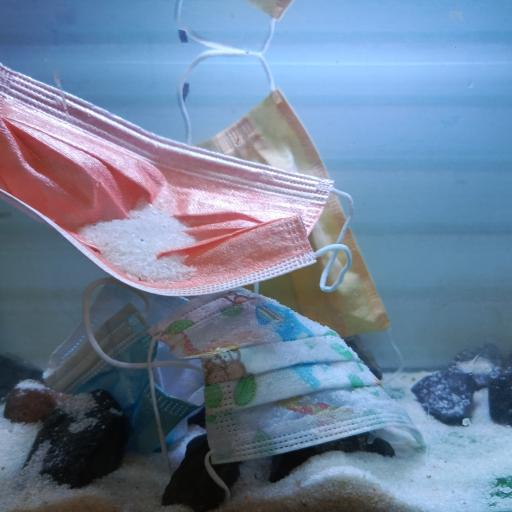mask: (0, 61, 354, 299), (178, 48, 392, 339), (146, 286, 427, 466), (42, 274, 208, 456)
